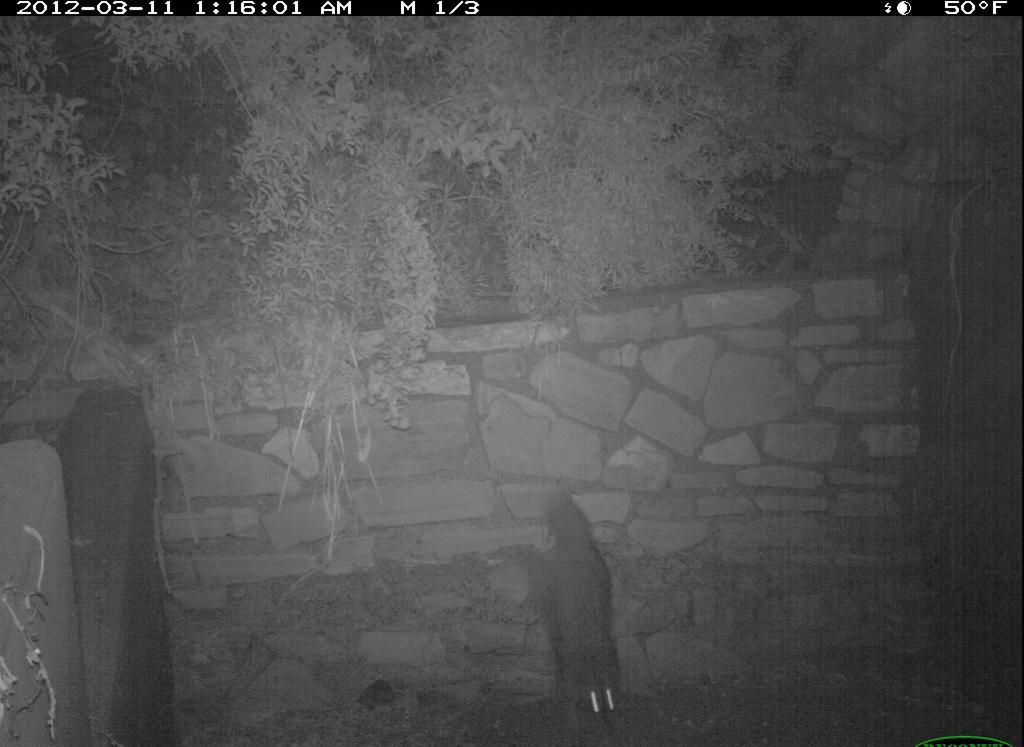raccoon: (487, 483, 646, 743)
